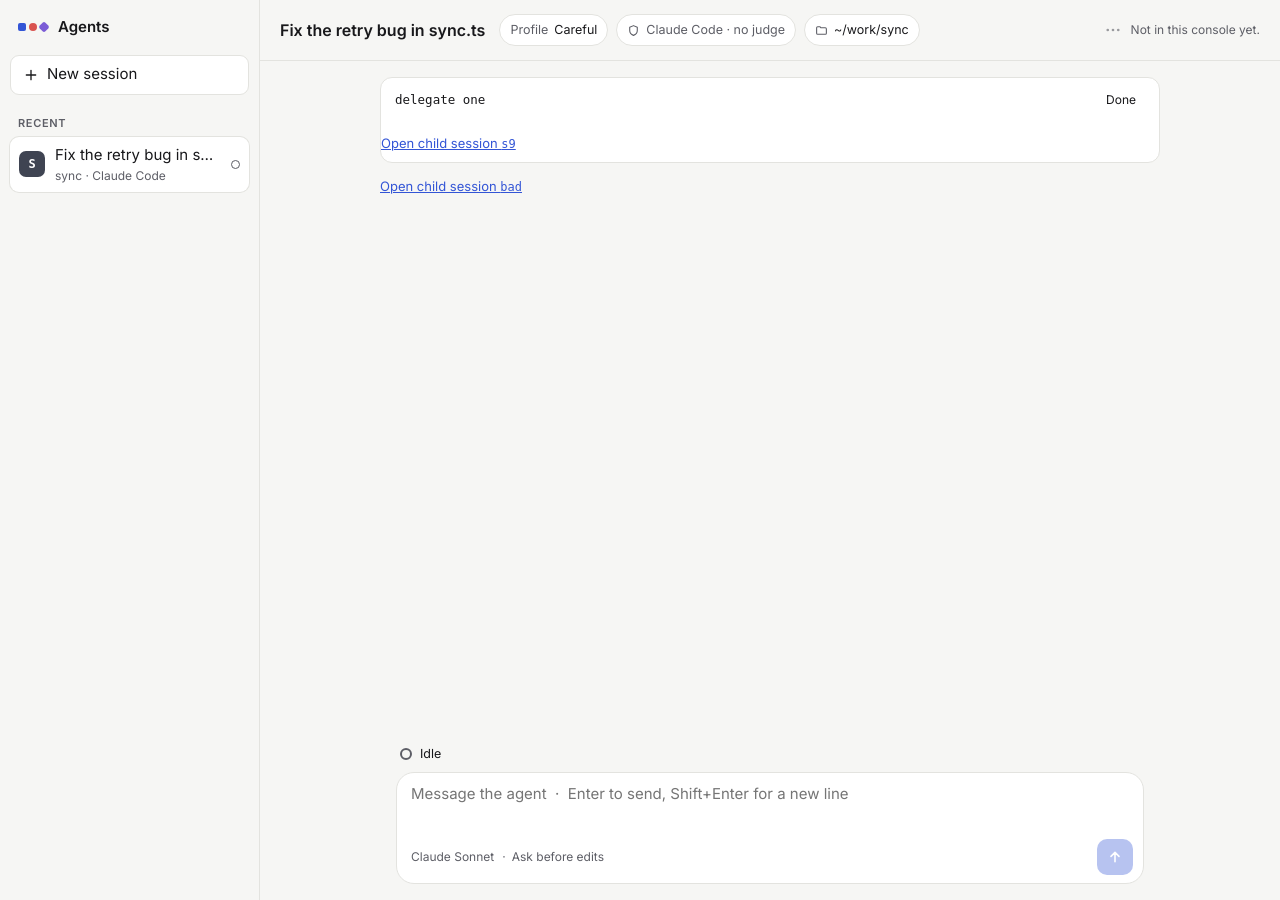
Test: S134-5 AC2 activating the link › ac2_the_link_opens_the_child_through_attach_and_shows_it_in_the_header
Step 1. Click the button "Open child session s9" → (448, 144), box [381,126,516,162]
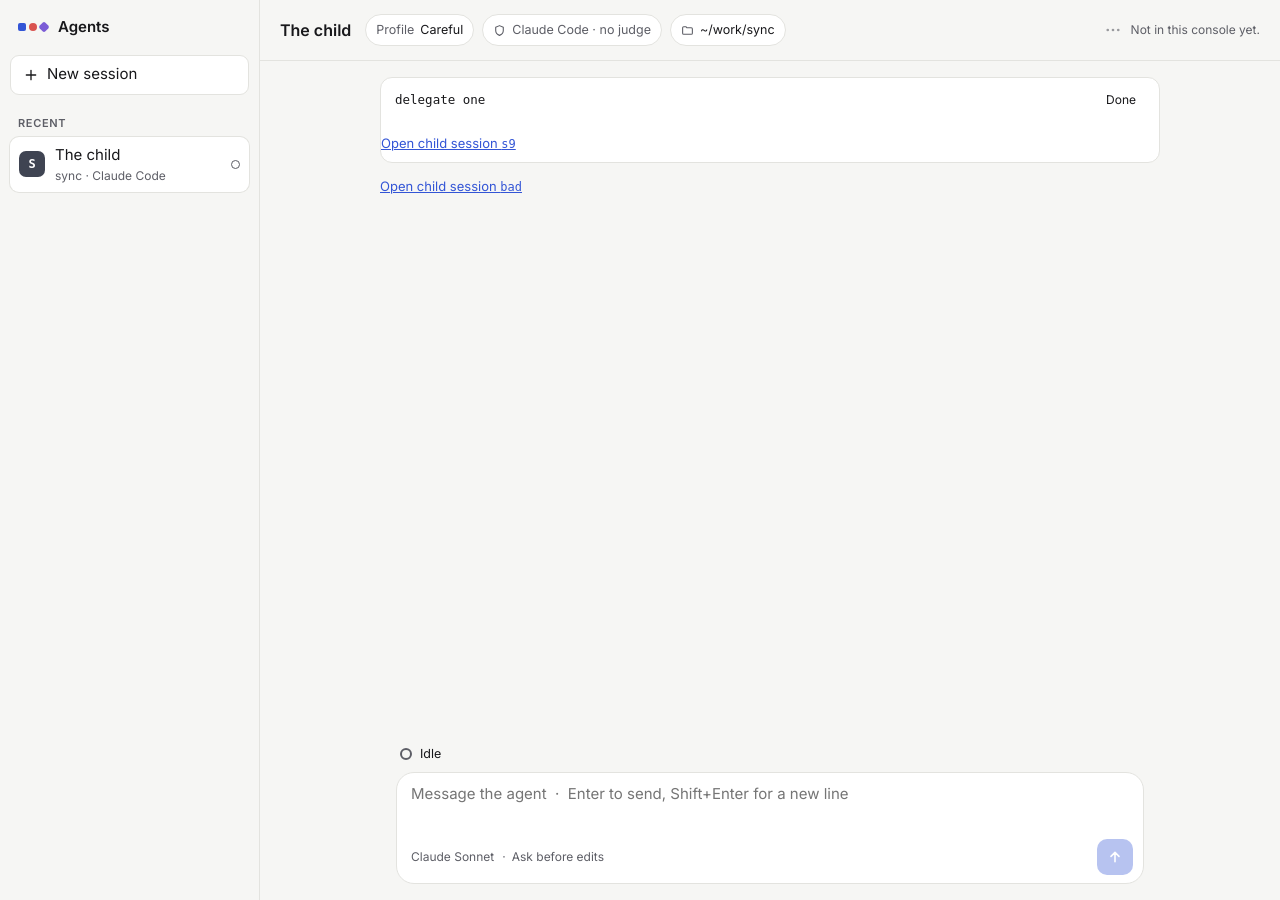
Expected: the heading "The child" is shown, [280,18,351,42]
